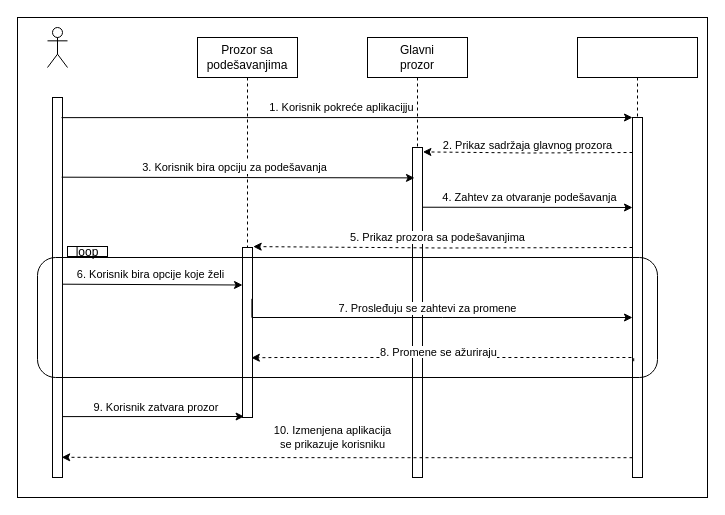
Image size: 725x515. Some labels were removed from this diagram. The shapes that lost their labels are listed below. From the top down, each one's centre as x and y in pixels, then its label:
At (57,47): "Korisnik".
At (637,57): "Aplikacija".
